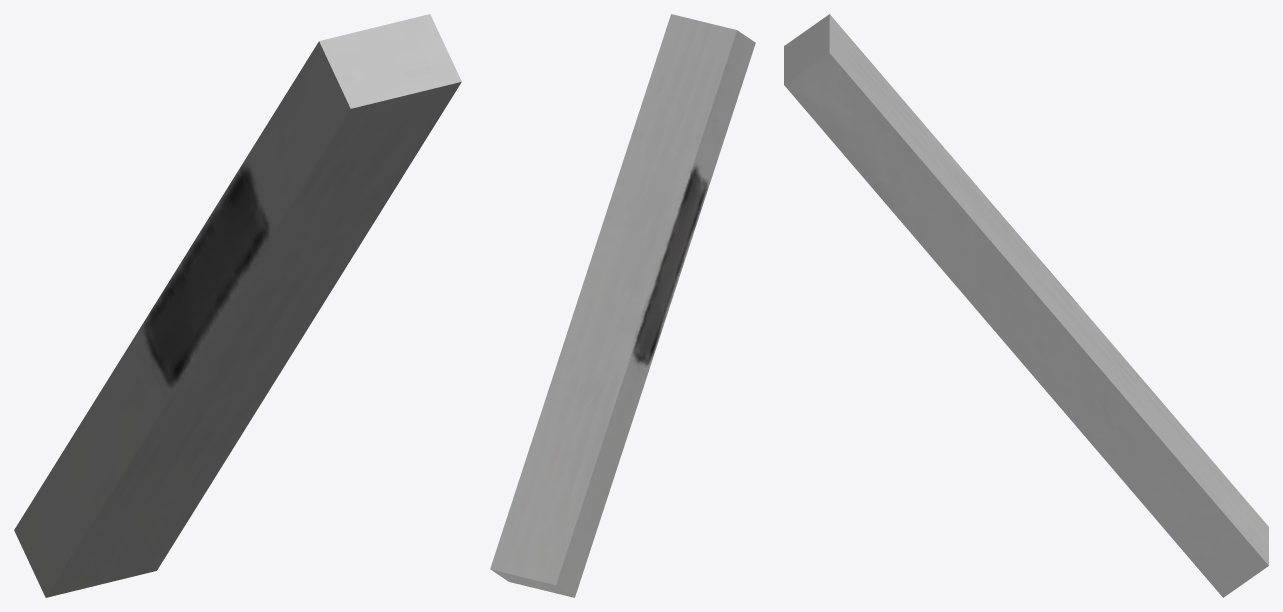
File: support_arm__arm_side_1.glb
3 renders of one model, left to right at view 1: azimuth 30°, elevation 25°; view 2: azimuth 150°, elevation 25°; view 3: azimuth 270°, elevation 25°, orthographic. The views are drawn at different scales.
Visible parts, largest first — view 1: geometry_0; view 2: geometry_0; view 3: geometry_0.
Part boxes in pixels (x1,y1,x2,y2): geometry_0: (14,14,461,597); geometry_0: (490,14,755,597); geometry_0: (784,14,1268,597).
Size of the model in its own units: 0.04 by 0.2602 by 0.2098.
1 material, 1 textured.
